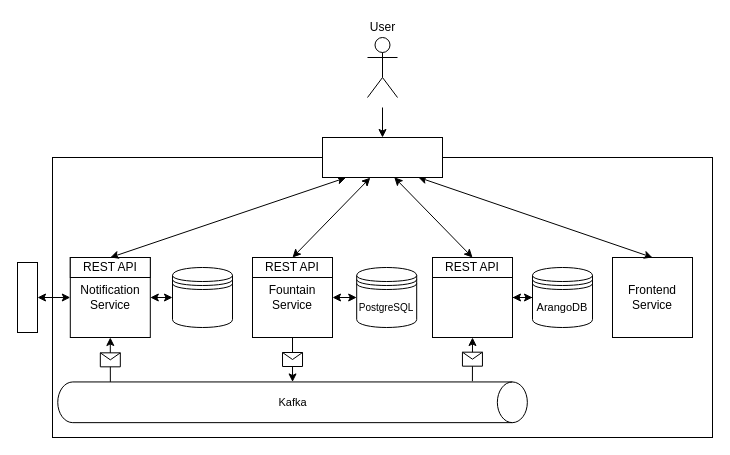
Some shapes in this 730 by 455 pixel diagram are drawn without their labels. Here are the shapes that lost their labels. From the top down, the box of each, then its label:
(322, 136, 442, 178): API Gateway
(16, 262, 38, 332): Mailgun API
(172, 266, 232, 328): Redis
(432, 256, 512, 338): Rating Service
